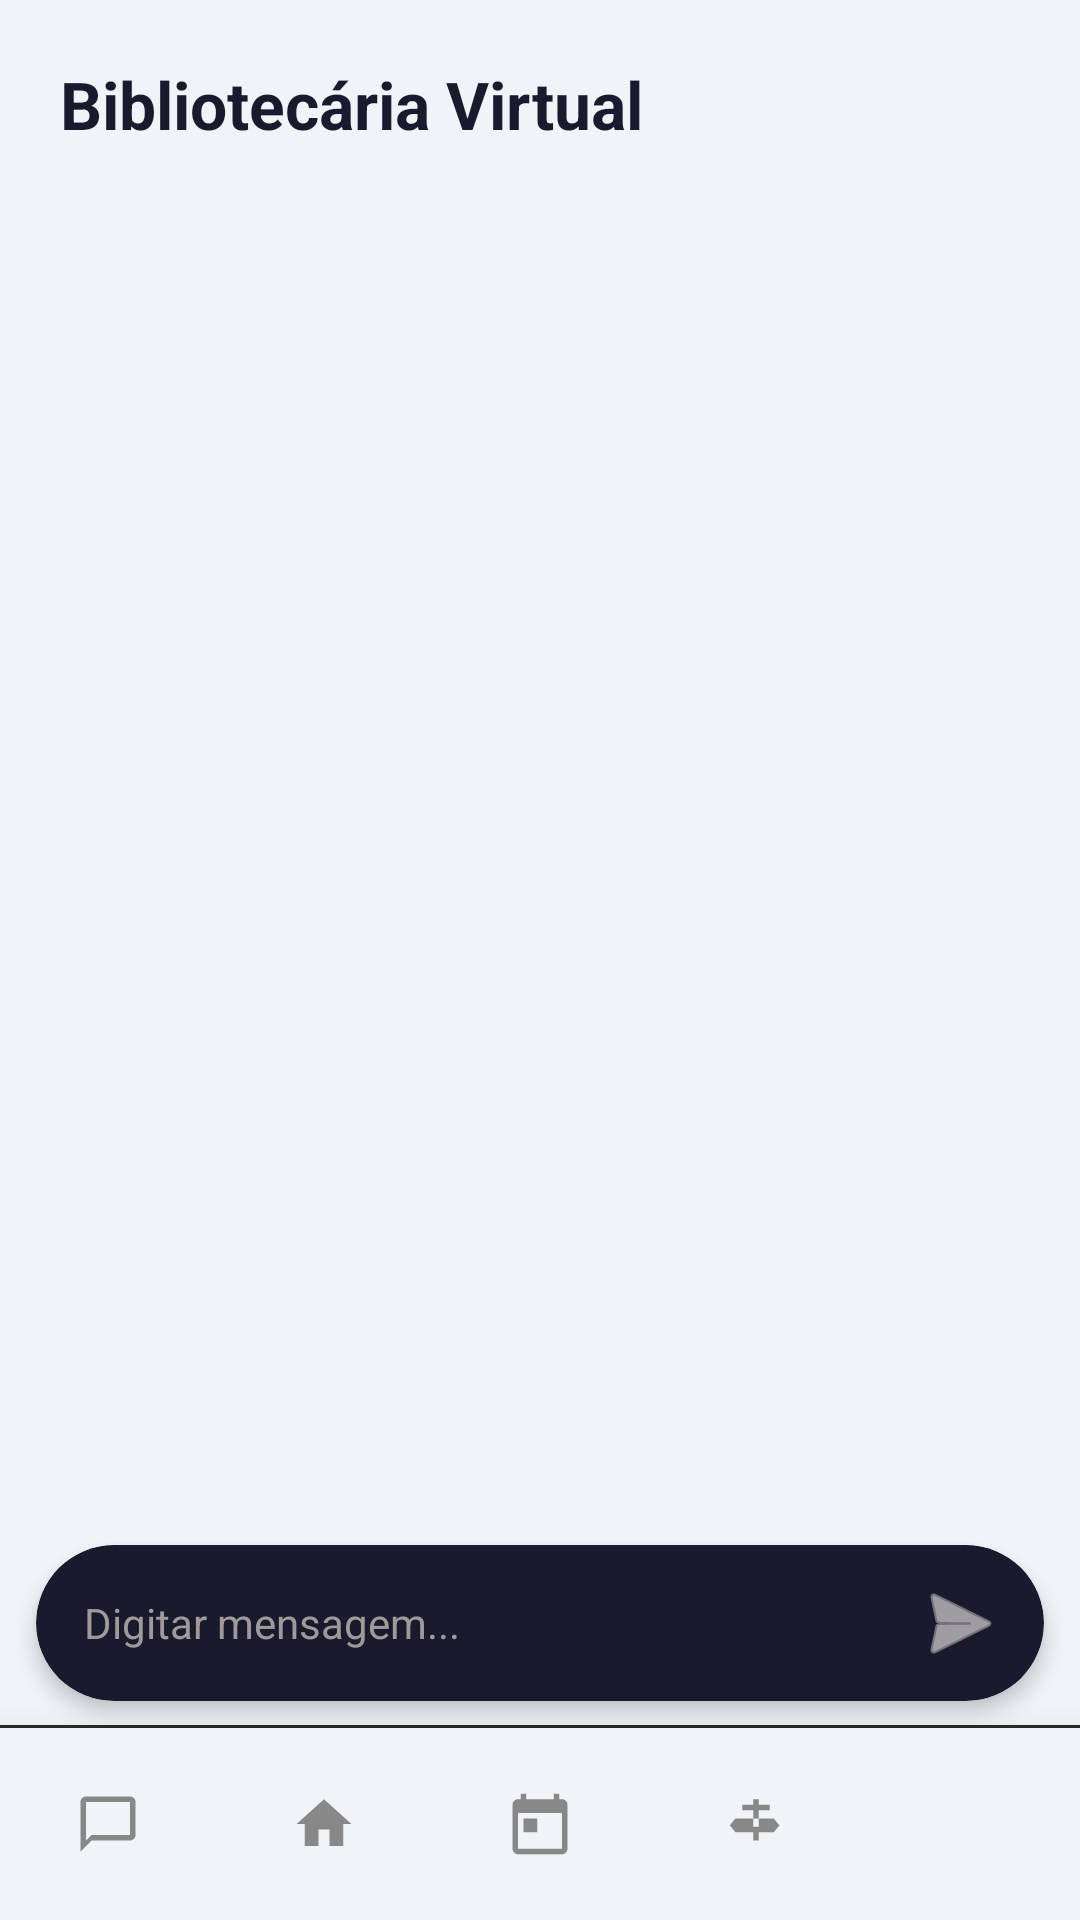

Named icons in this screenshot (1080x1920) and their centers, [x,y]:
Chat: [108,1823]
Enviar mensagem: [961,1623]
Início: [324,1822]
Reservas: [540,1824]
